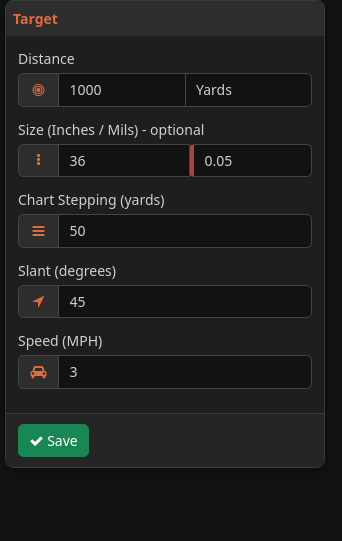
Test case: displays validation error for sizeMils when value is below min
Clear the number field named "sizeMils" at (250, 160), box [189, 144, 312, 177]
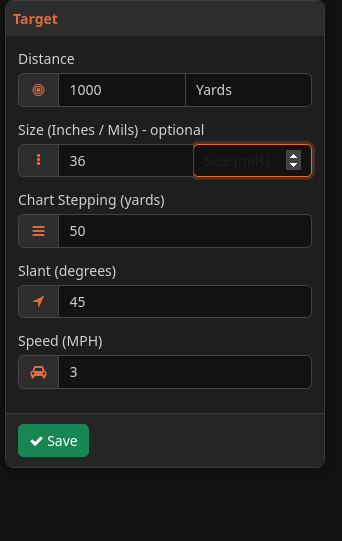
Type "0.05" into the number field named "sizeMils" at (252, 160), box [193, 144, 312, 177]
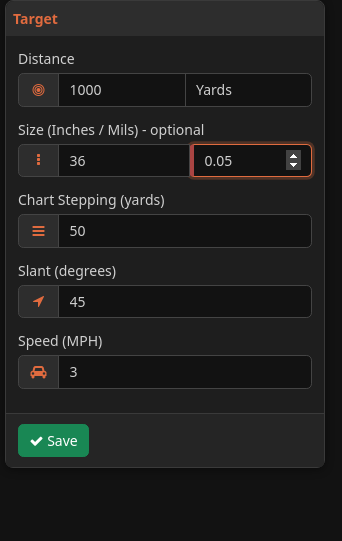
Press Tab
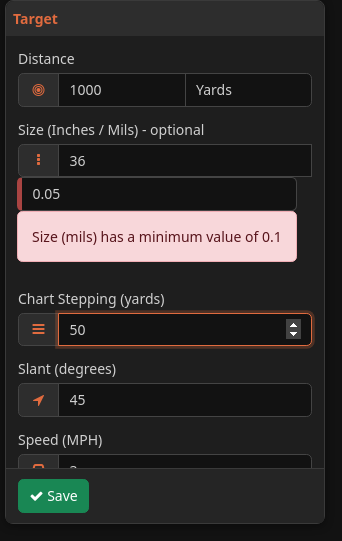
Expected: the text "Size (mils) has a minimum value of 0.1" is shown, [17, 210, 297, 262]
